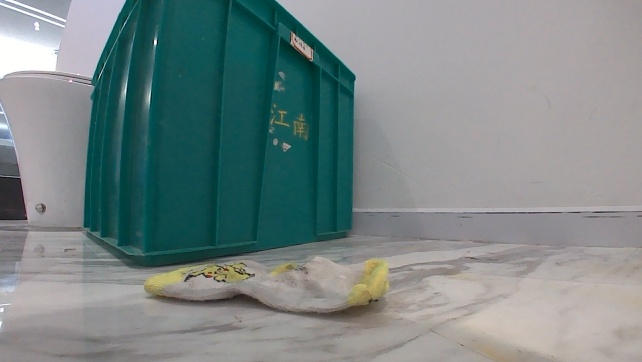socks: (140, 250, 393, 315)
toilet: (0, 65, 93, 229)
